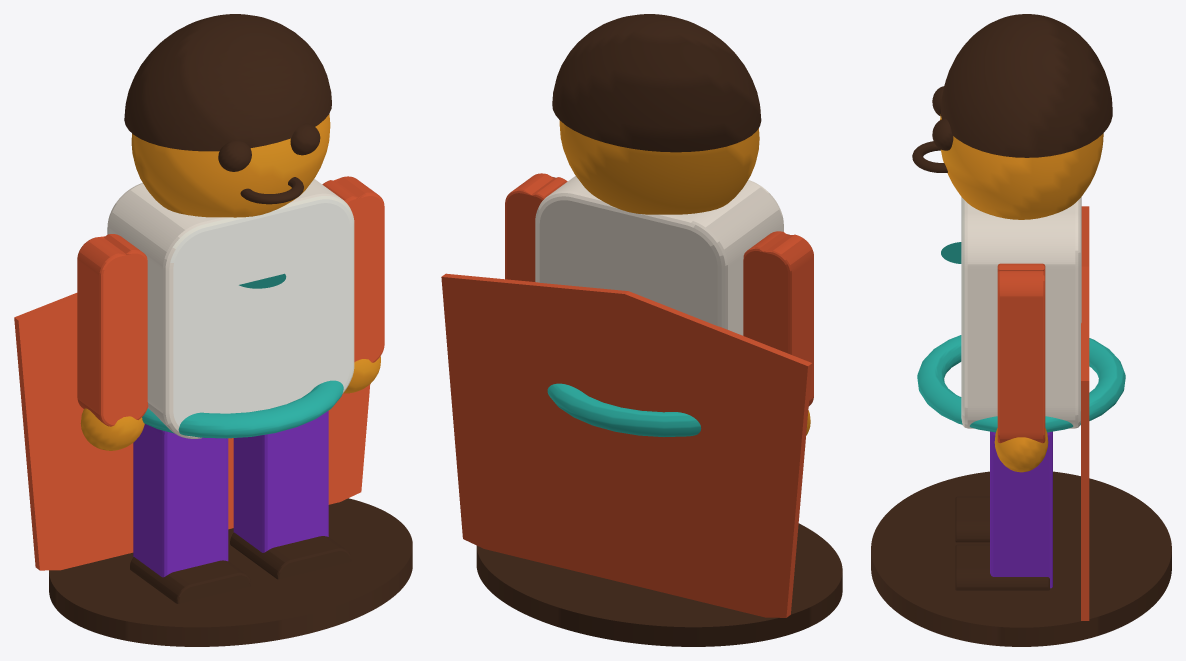
Rendered from 0670_史前人类图鉴_山顶洞人骨针.glb.
3 renders of one model, left to right at view 1: azimuth 30°, elevation 25°; view 2: azimuth 150°, elevation 25°; view 3: azimuth 270°, elevation 25°, orthographic. The views are drawn at different scales.
Visible parts, largest first — view 1: card_0670; view 2: card_0670; view 3: card_0670.
Part boxes in pixels (bbox=[...]): card_0670: bbox=[14, 14, 412, 646]; card_0670: bbox=[441, 14, 842, 646]; card_0670: bbox=[871, 14, 1171, 646].
Bounding box in the file's own units: 0.6739 × 1 × 0.4912.
